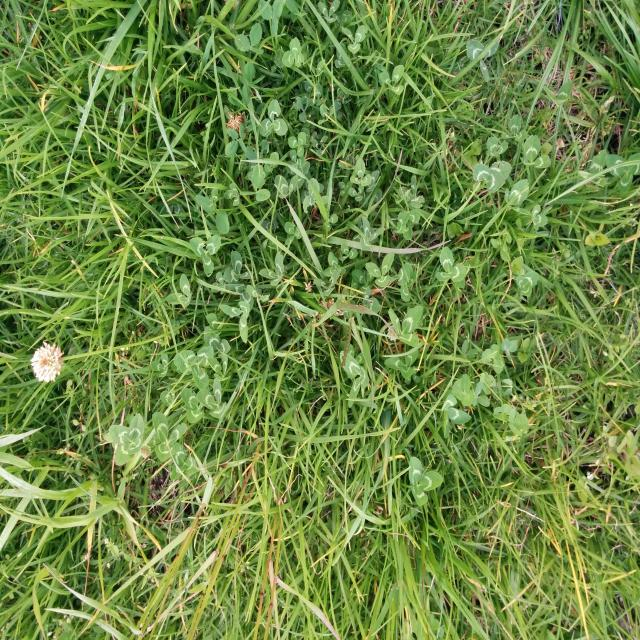Four Leaf Clover: (109, 413, 144, 465)
